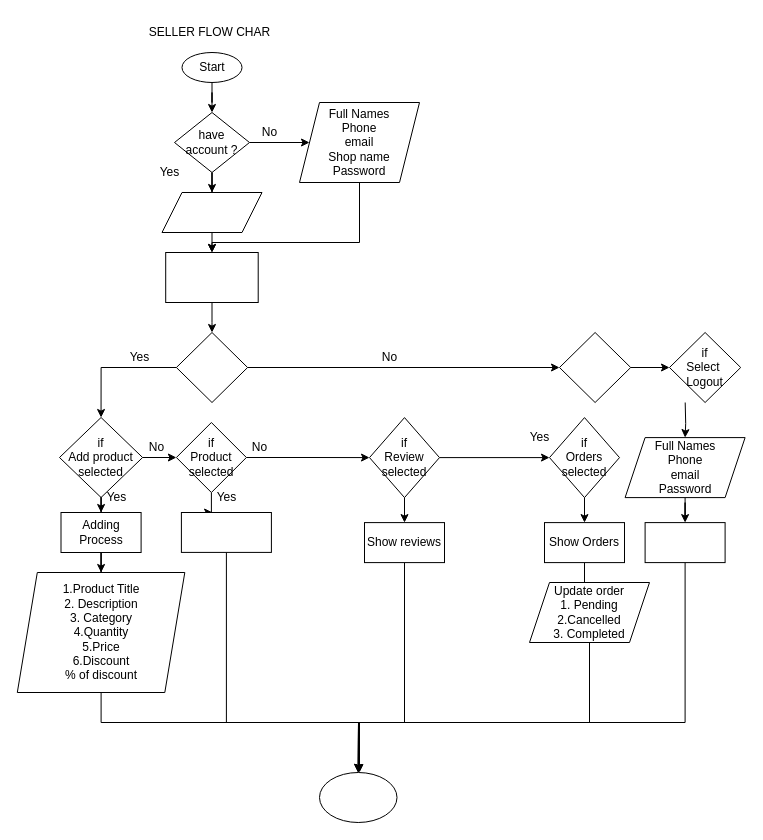
The diagram is 763 pixels wide and 840 high, and some of its shapes have lost their labels. The shapes that lost their labels are listed below. From the top down, each one's centre as x and y in pixels, then its label:
At [211,212]: "1. email 2. Password".
At [211,277]: "Authentication Process".
At [211,367]: "if Select Shop".
At [594,367]: "if Select Profile".
At [225,532]: "Edit Product".
At [684,542]: "Update Profile".
At [357,797]: "Stop".
